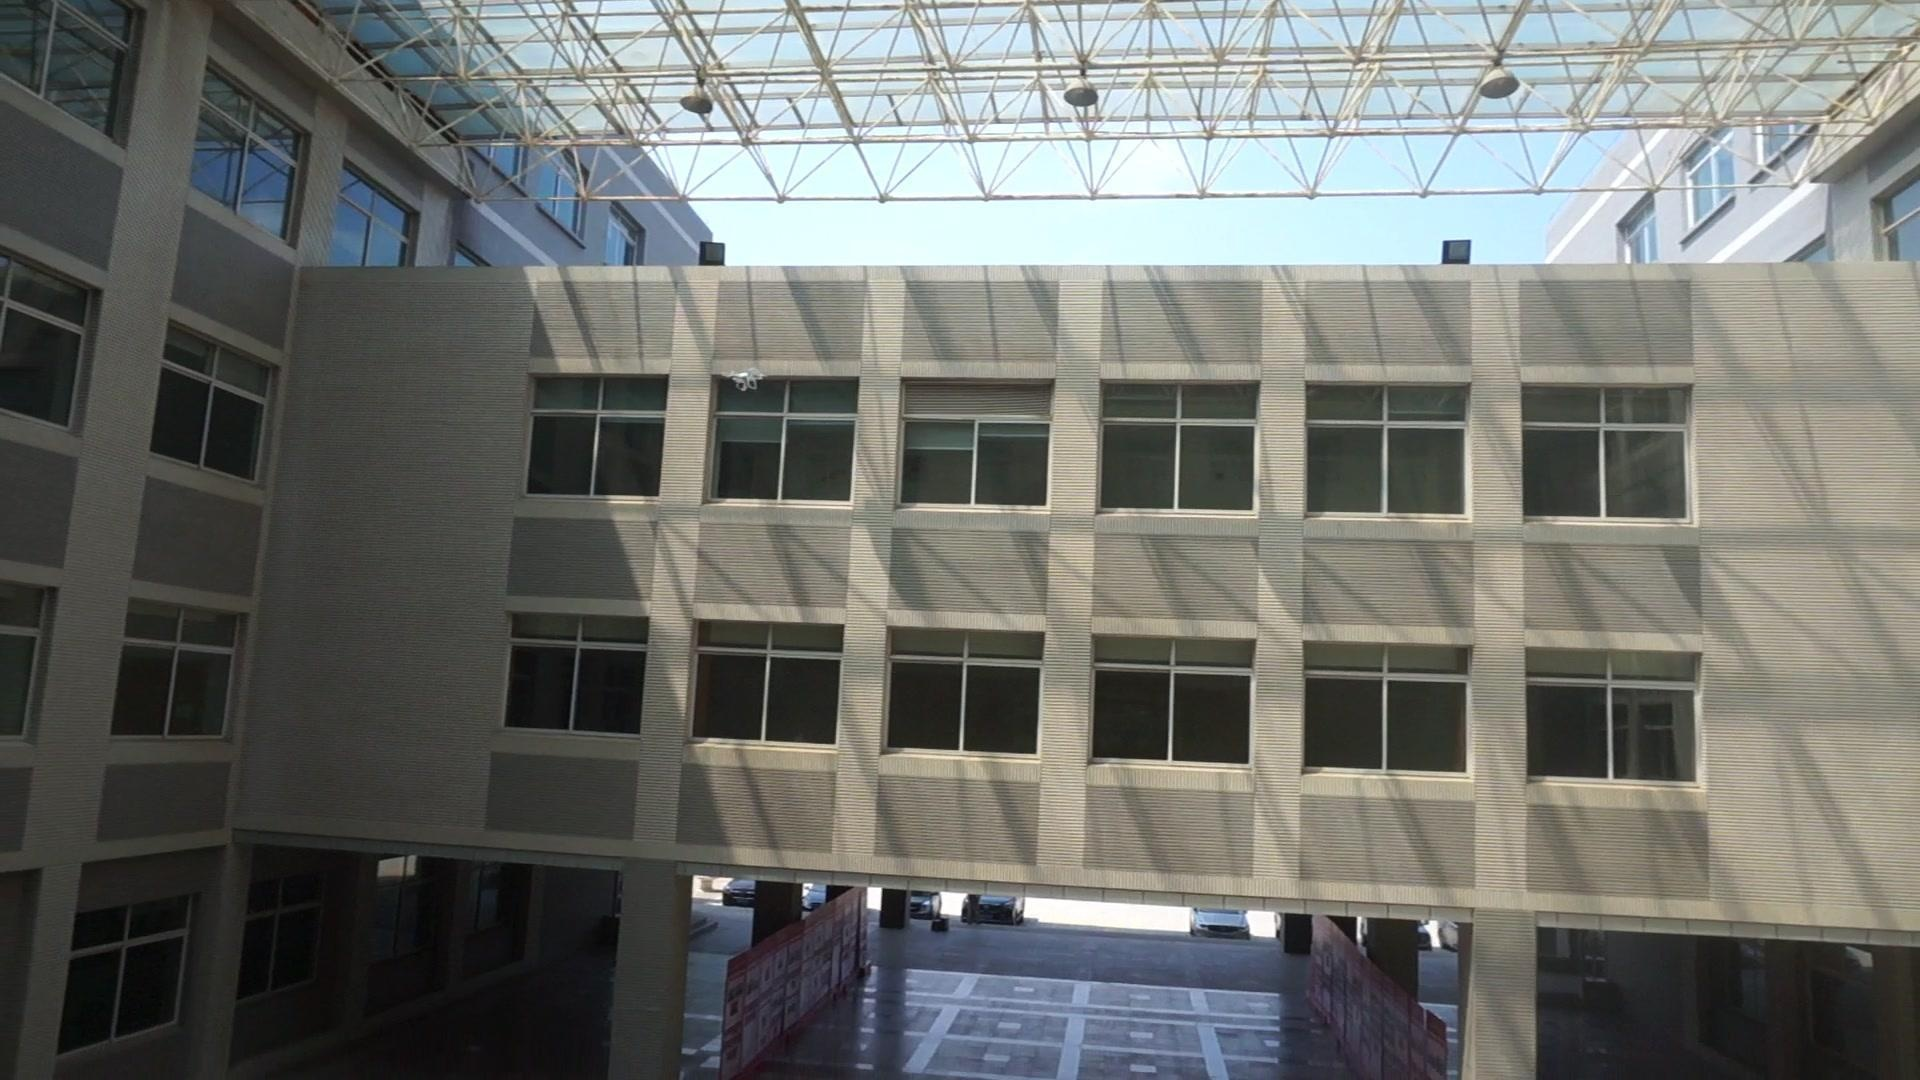UAV: (721, 368, 769, 393)
